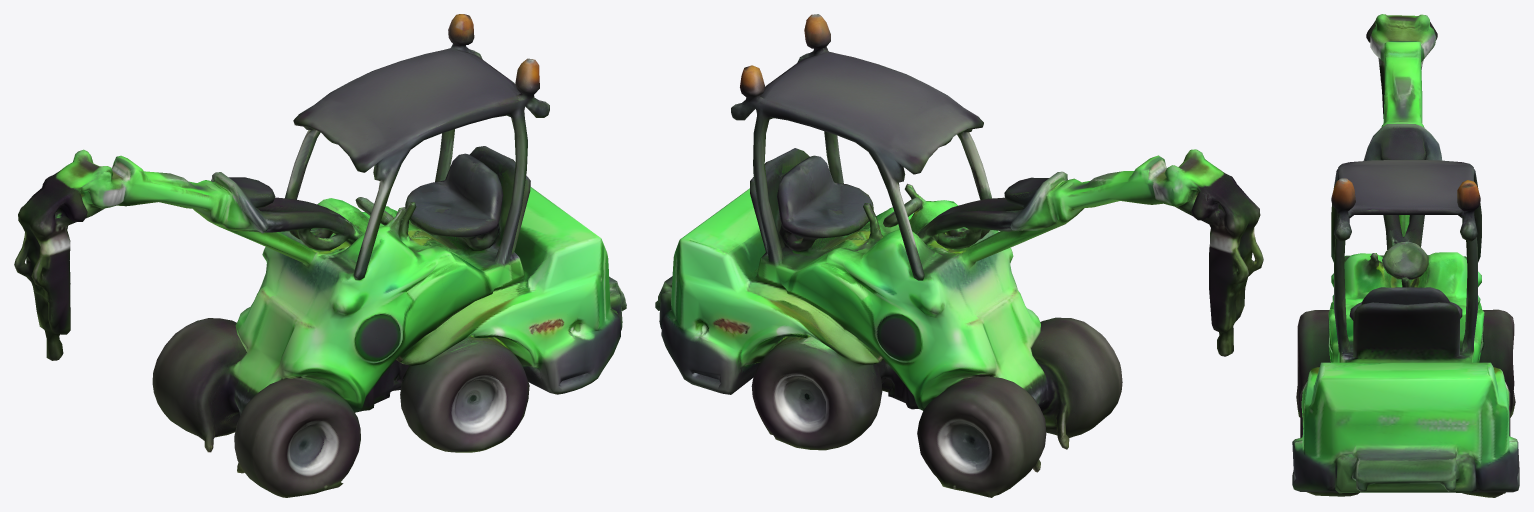
File: Tent_Ox_ent_Install_Loader_7FTTALL_0222023204_texture.glb
3 renders of one model, left to right at view 1: azimuth 30°, elevation 25°; view 2: azimuth 150°, elevation 25°; view 3: azimuth 270°, elevation 25°, orthographic. The views are drawn at different scales.
Parts seen in each view (by area): view 1: Mesh_0; view 2: Mesh_0; view 3: Mesh_0.
Boxes of the visible parts, left/top/right/bottom form: Mesh_0: left=14, top=14, right=626, bottom=497; Mesh_0: left=655, top=14, right=1263, bottom=497; Mesh_0: left=1292, top=14, right=1519, bottom=497.
Size of the model in its own units: 3.6 by 2.13 by 1.29.
Materials: 1 (1 with a texture image).
